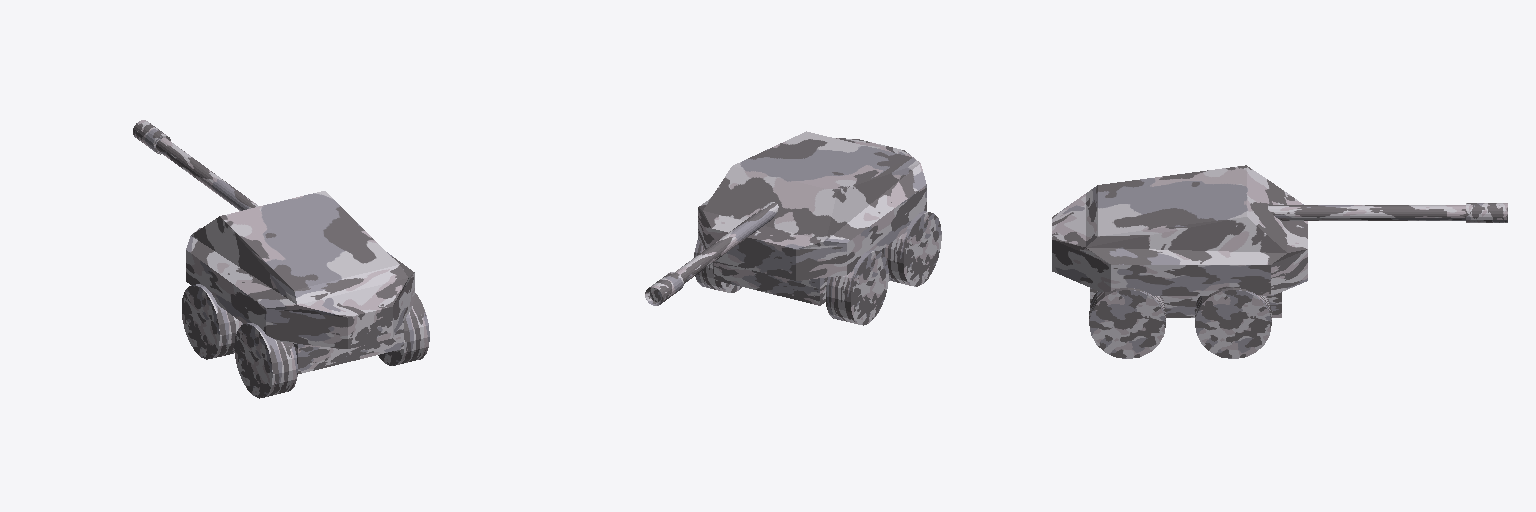
3 views of the same model, side by side, from view 1: azimuth 30°, elevation 25°; view 2: azimuth 150°, elevation 25°; view 3: azimuth 270°, elevation 25° (orthographic).
Parts seen in each view (by area): view 1: pCylinder7; view 2: pCylinder7; view 3: pCylinder7.
Boxes of the visible parts, <box> form: pCylinder7: <box>133,120,429,398</box>; pCylinder7: <box>645,131,941,325</box>; pCylinder7: <box>1052,165,1507,358</box>.
Bounding box in the file's own units: 8.59 × 6.79 × 21.62.
Materials: 1 (1 with a texture image).